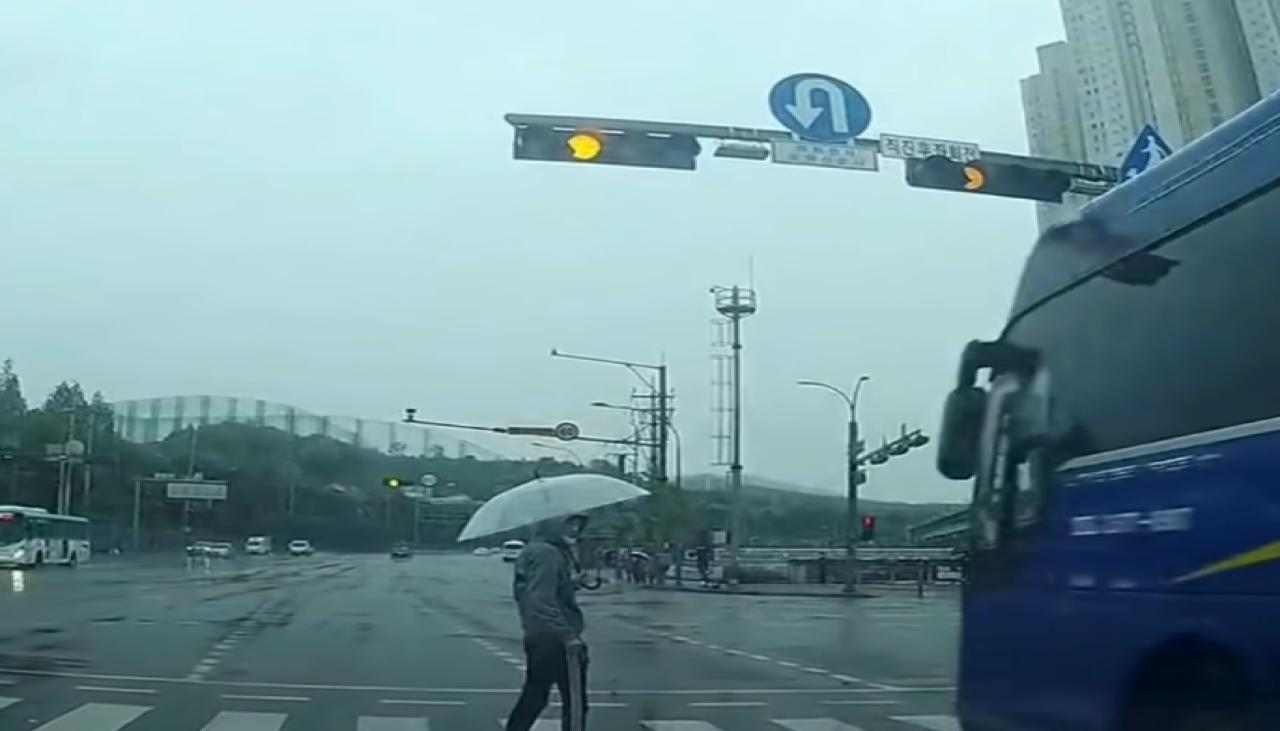Yellow Light: (562, 126, 608, 164), (950, 158, 992, 191)
